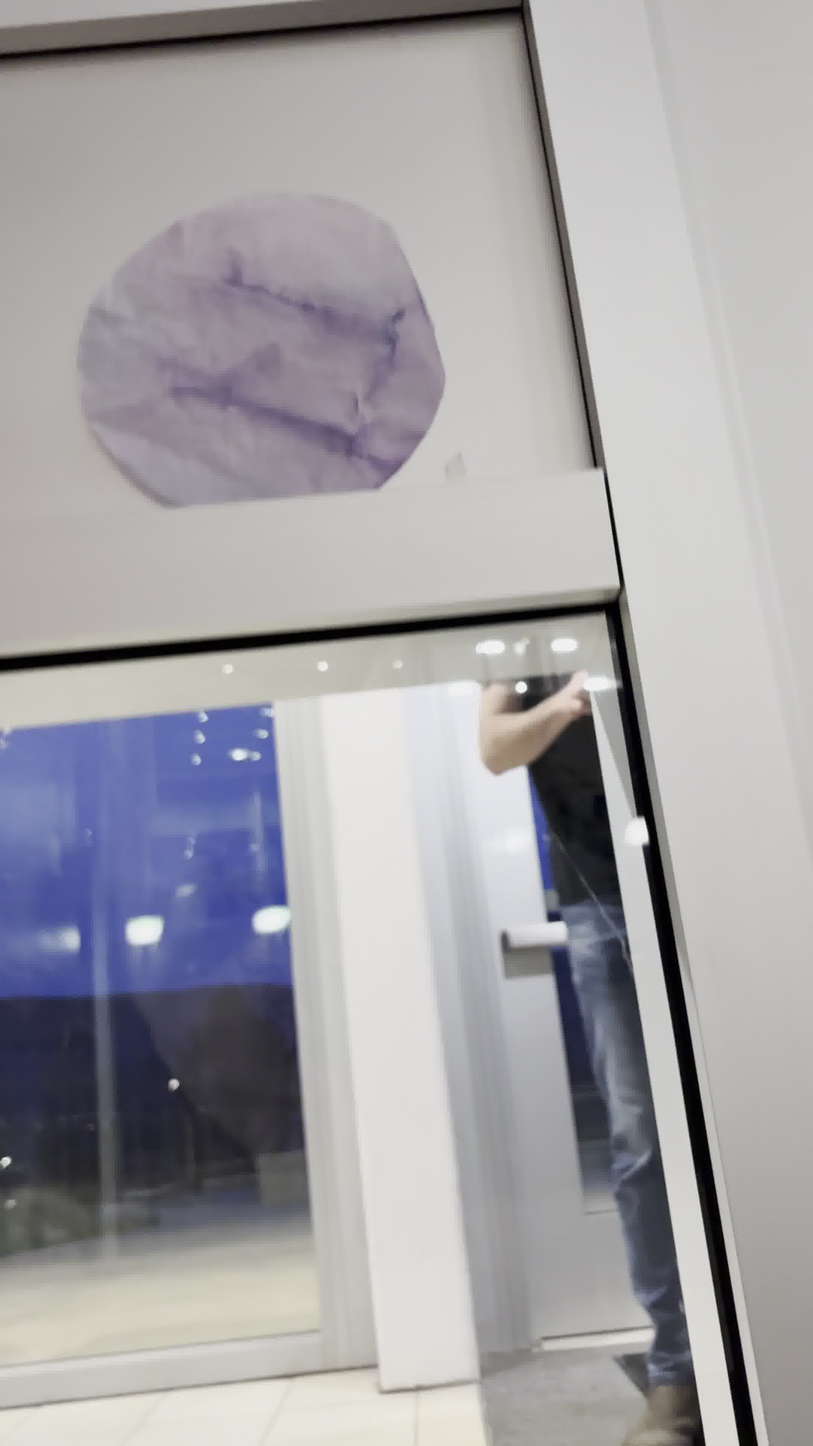Target: (65, 178, 454, 520)
